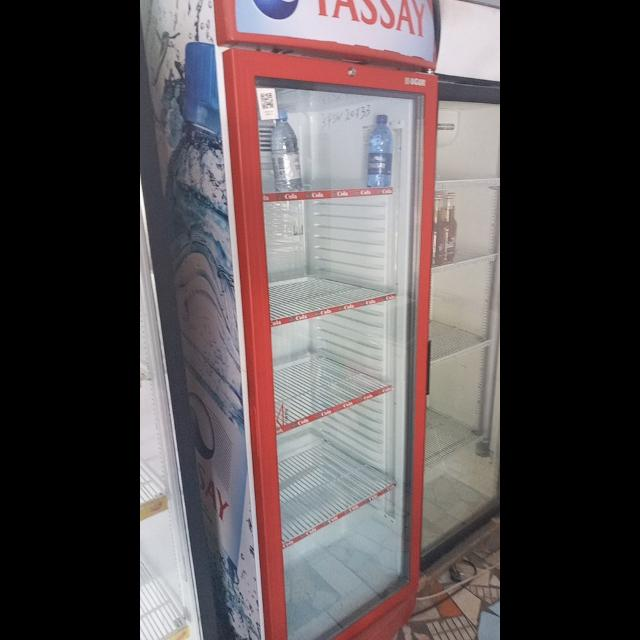Cooling-Display: (212, 1, 438, 640)
